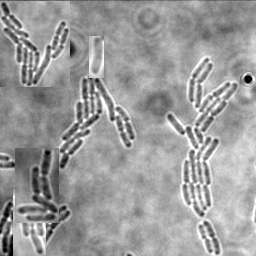Dividing: (204, 219, 222, 255), (199, 223, 215, 253)
Microcolony: (167, 57, 238, 216), (59, 75, 136, 169), (0, 1, 70, 87), (15, 148, 59, 223), (13, 189, 46, 256), (1, 200, 13, 255), (89, 36, 104, 78)
